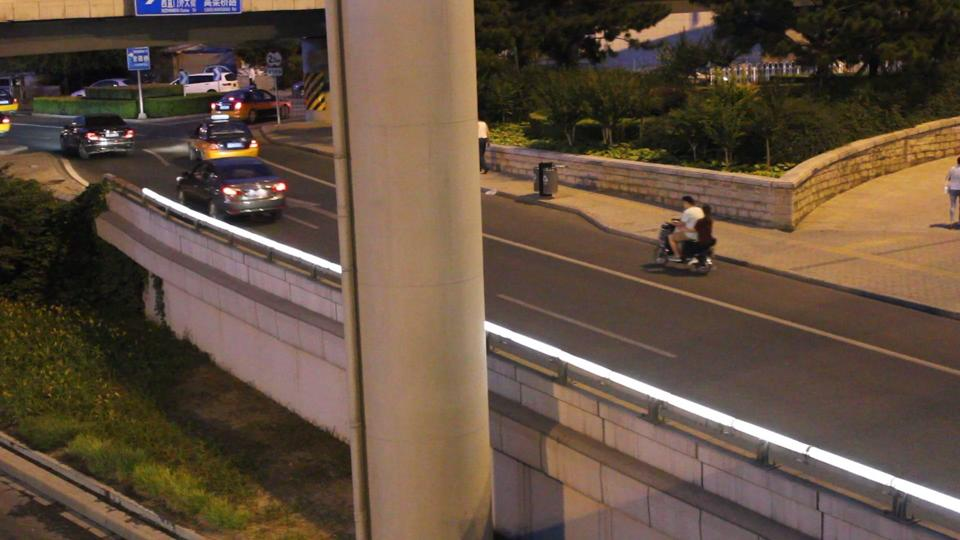Car: (180, 161, 283, 217), (63, 116, 134, 155), (192, 122, 257, 162), (214, 90, 288, 121)
